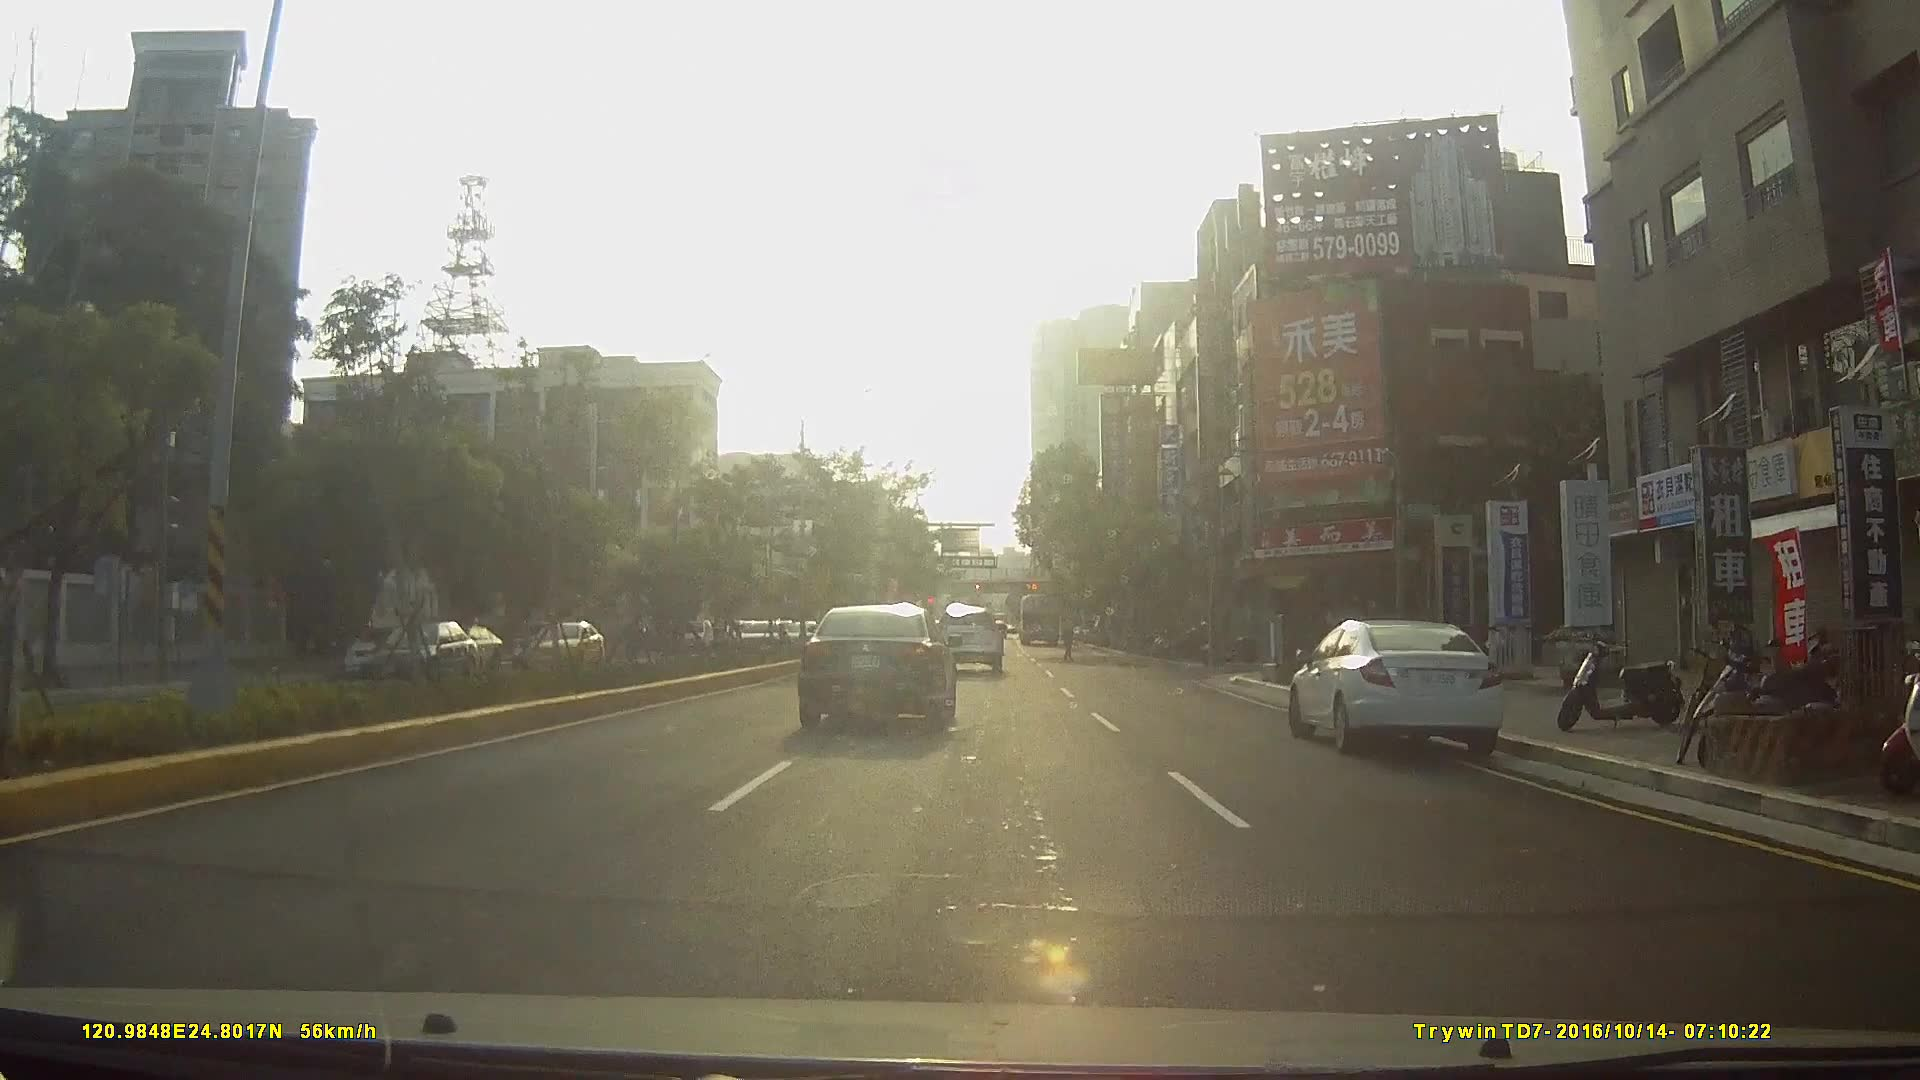vehicle: (1290, 618, 1520, 762), (796, 601, 959, 731), (342, 609, 487, 699), (928, 601, 1002, 674), (339, 618, 433, 674), (524, 615, 612, 673), (423, 621, 500, 671), (1015, 589, 1059, 646), (732, 618, 786, 657), (673, 618, 711, 653)
